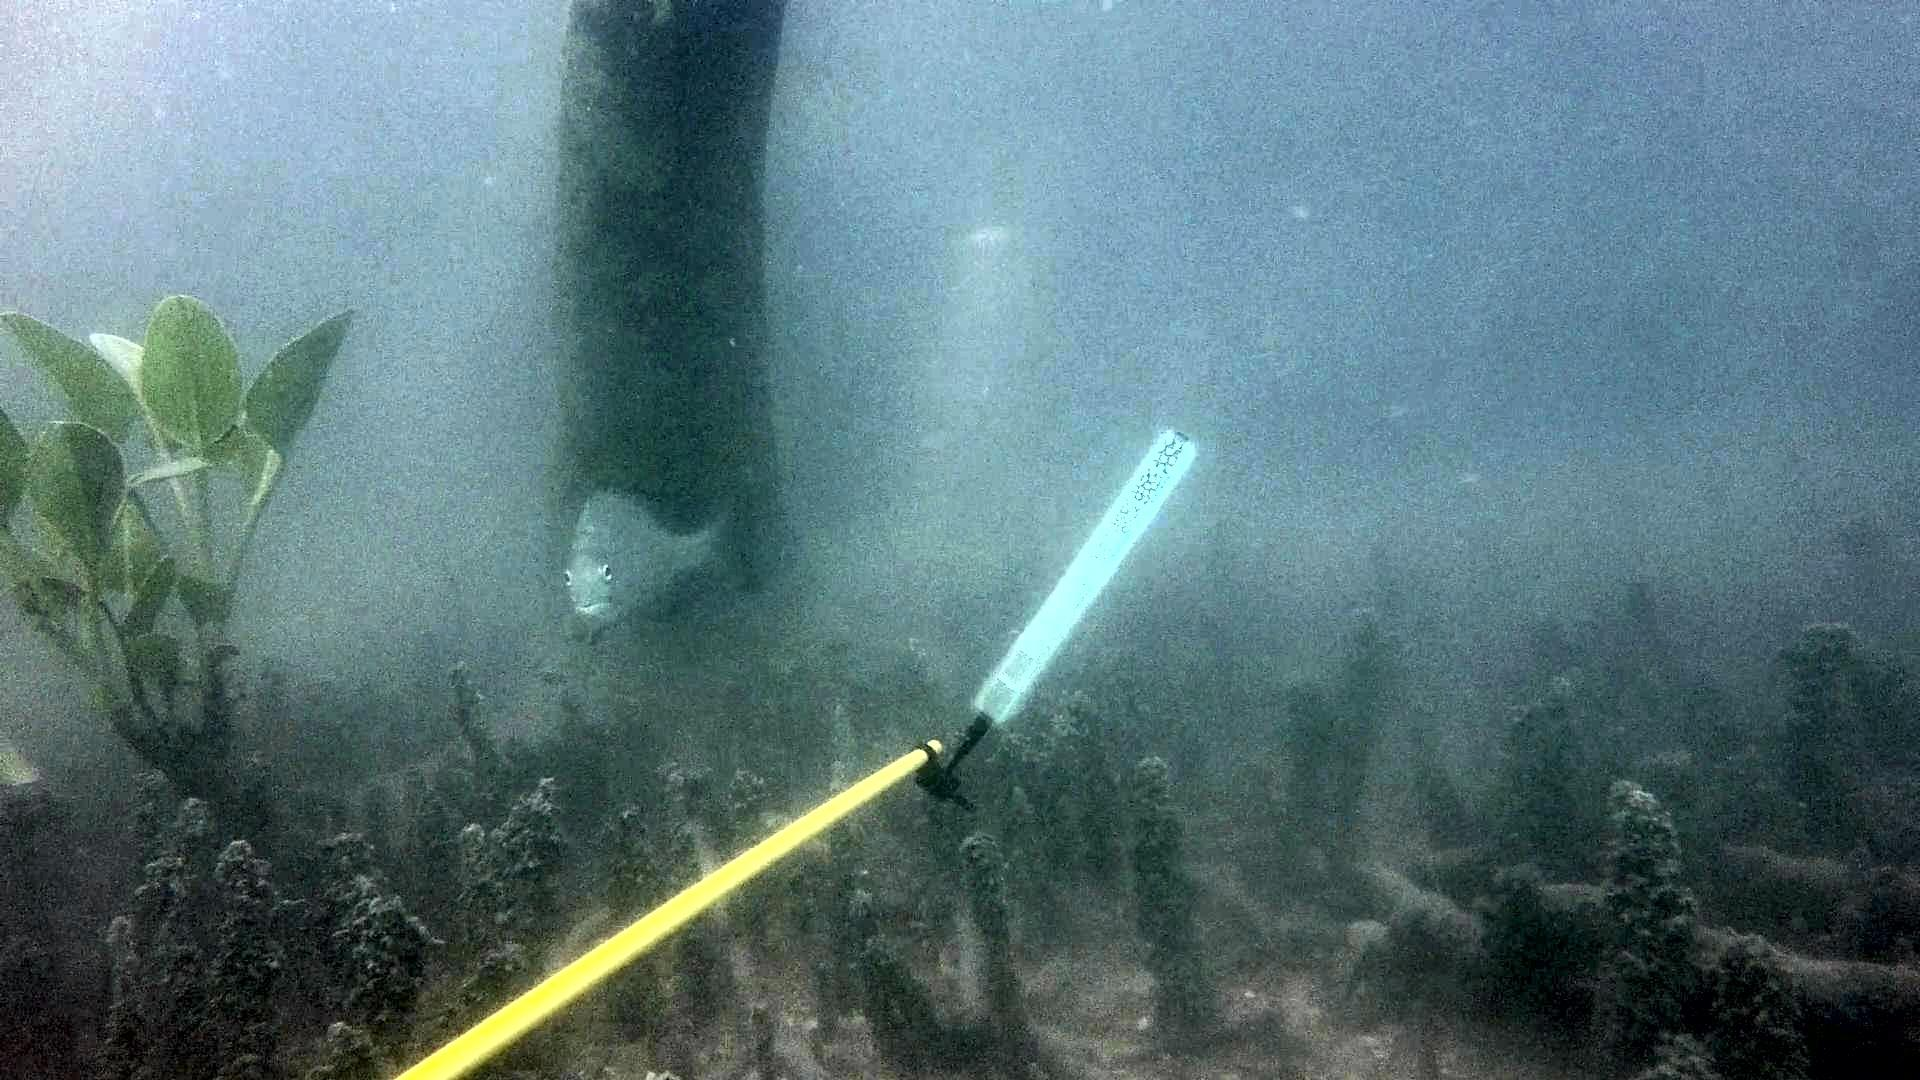acanthopagrus palmaris: (556, 464, 777, 655)
